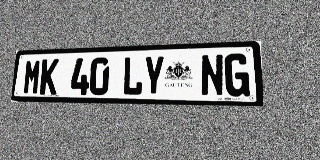0: (89, 57, 110, 95)
4: (70, 58, 91, 95)
G: (224, 53, 250, 97)
K: (39, 59, 59, 95)
L: (122, 56, 143, 96)
M: (22, 59, 42, 95)
N: (201, 54, 224, 96)
Y: (143, 56, 165, 96)
